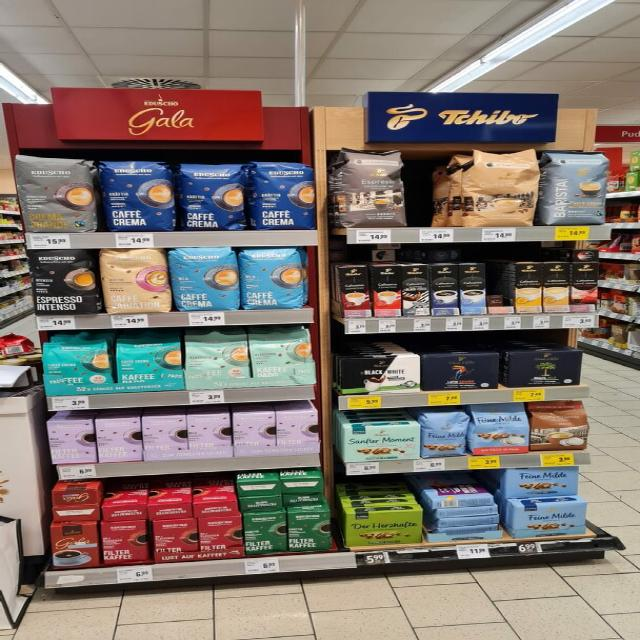BM Gemahlen: (504, 349, 584, 385)
BW Gemahlen: (340, 355, 421, 394)
Barista CC: (543, 148, 611, 225)
CC Mild: (464, 150, 540, 227)
CC Vollmundig: (530, 403, 590, 451)
Espresso M Art: (330, 145, 409, 226)
FM 36 Pads: (471, 405, 531, 454)
FM Bohne: (423, 412, 471, 457)
FM Gemahlen: (514, 501, 588, 538)
Herzhatfe Mundig: (346, 509, 423, 546)
LG Gemahlen: (422, 351, 502, 391)
SM Gemahlen: (347, 423, 421, 462)
Simo CC Colombia: (571, 262, 599, 312)
Simo CCMild bigpack: (515, 262, 544, 313)
Simo Decaff: (544, 262, 570, 312)
Simo Es Brazil: (374, 265, 403, 317)
Simo Es Caramel: (338, 266, 373, 317)
Simo Es Elegant: (403, 264, 430, 316)
Simo Es Kraft: (431, 264, 461, 316)
Simo Es Vanilla: (460, 263, 487, 314)
